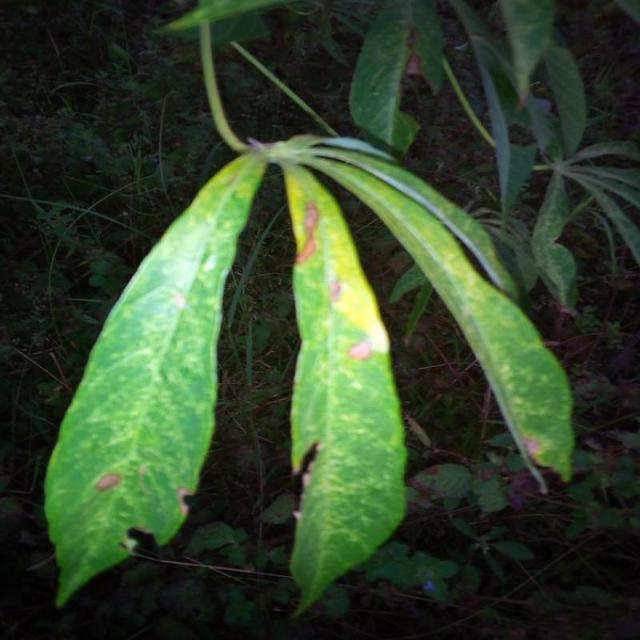cassava leaf: (42, 130, 576, 611), (42, 144, 268, 608), (282, 136, 576, 490), (281, 149, 408, 618)
